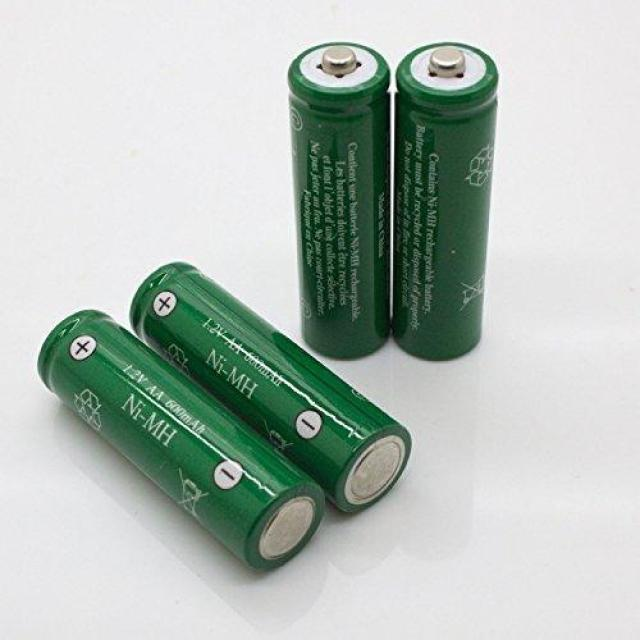battery: (39, 306, 328, 570), (128, 261, 411, 518), (394, 40, 501, 361), (289, 38, 392, 361)
